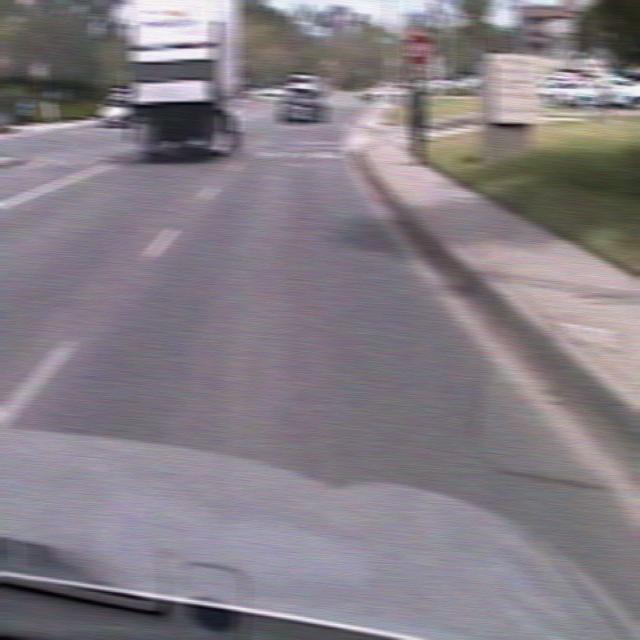stop_sign: (403, 32, 434, 68)
